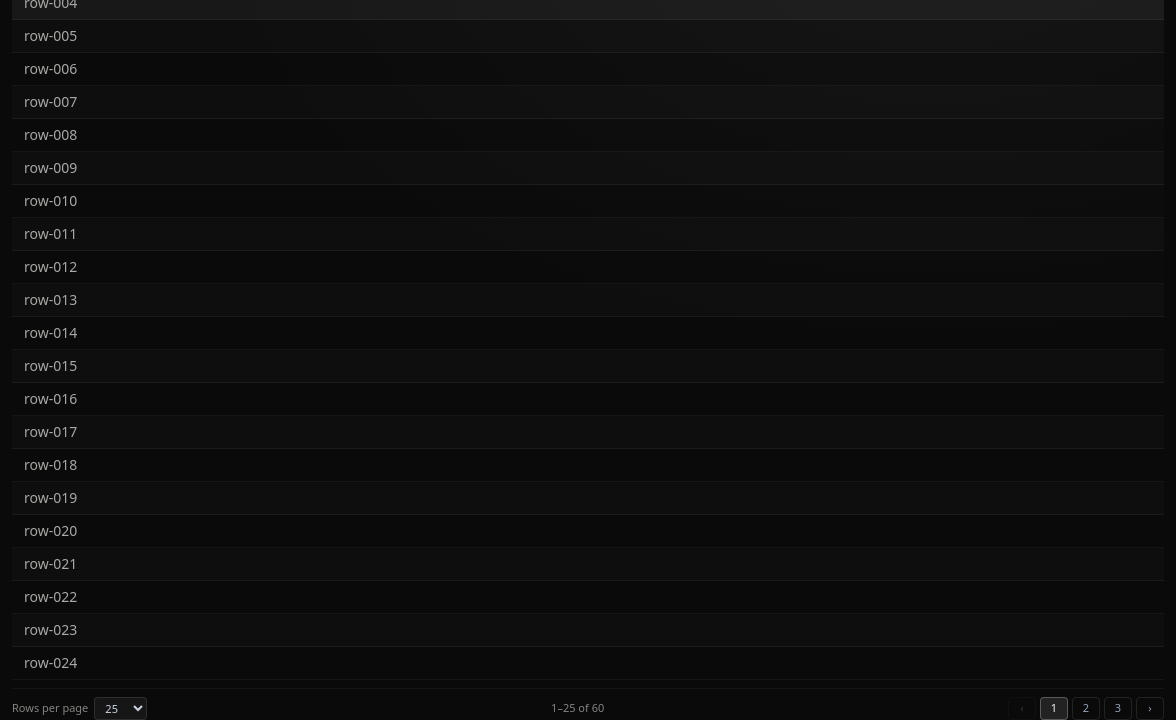
Scenario: DataTable — pagination › ⭐ FILTERING FROM A DEEP PAGE RETURNS TO PAGE ONE — the operator's own search must not read as empty
(page scrolled)
Step 1. Click the button named "Next page" → (1150, 709), box [1136, 697, 1164, 719]
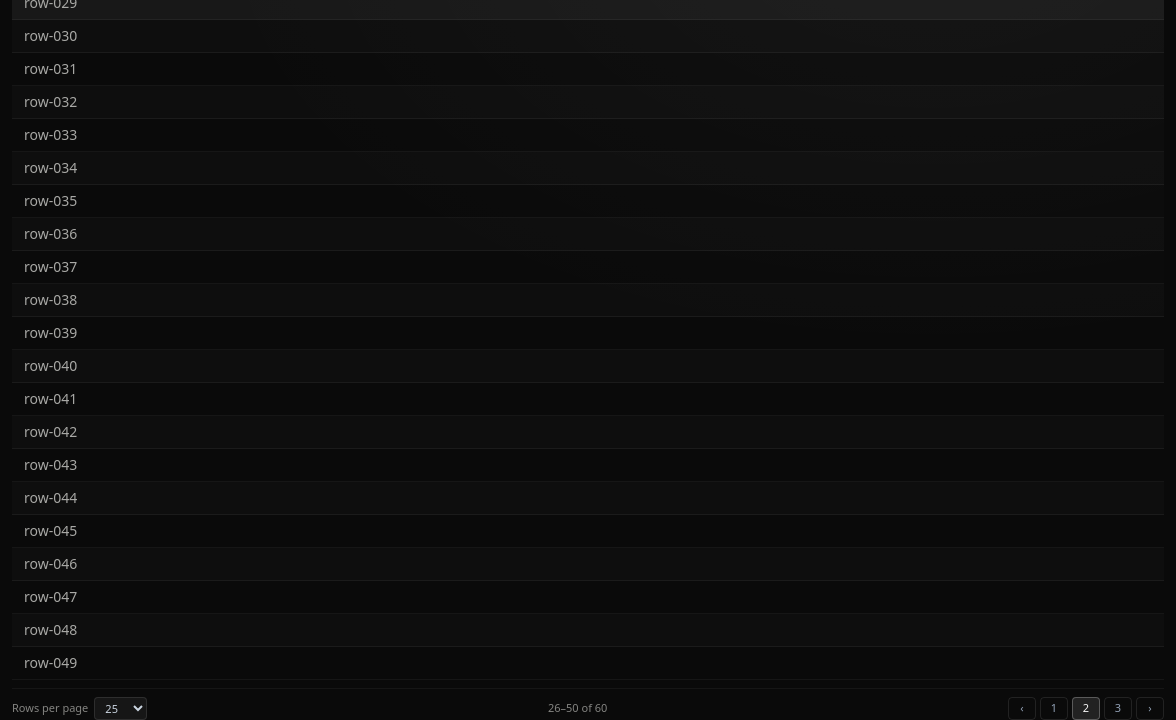
Step 2. Click the button named "Next page" → (1150, 709), box [1136, 697, 1164, 719]
(page scrolled)
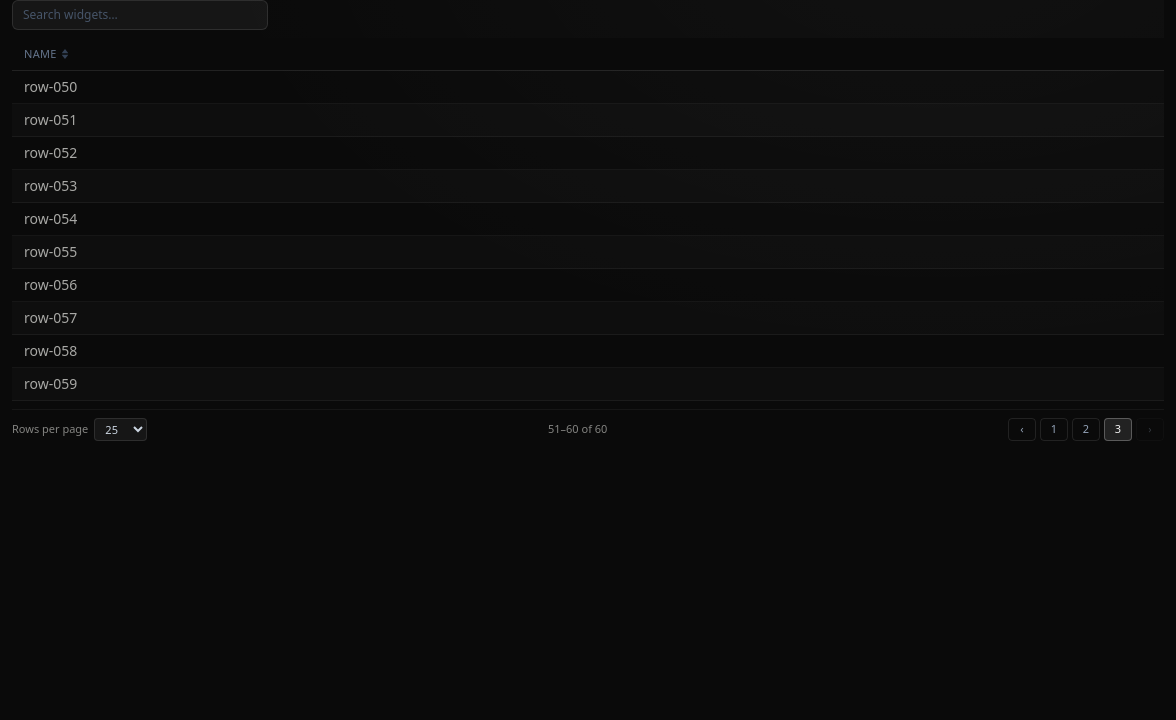
Now the button named "Page 3" is marked as current, box [1104, 418, 1132, 441]
Step 3. Type "ana@ex.com" into the search field named "Filter Widgets" → (140, 15), box [12, 0, 268, 30]
(page scrolled)
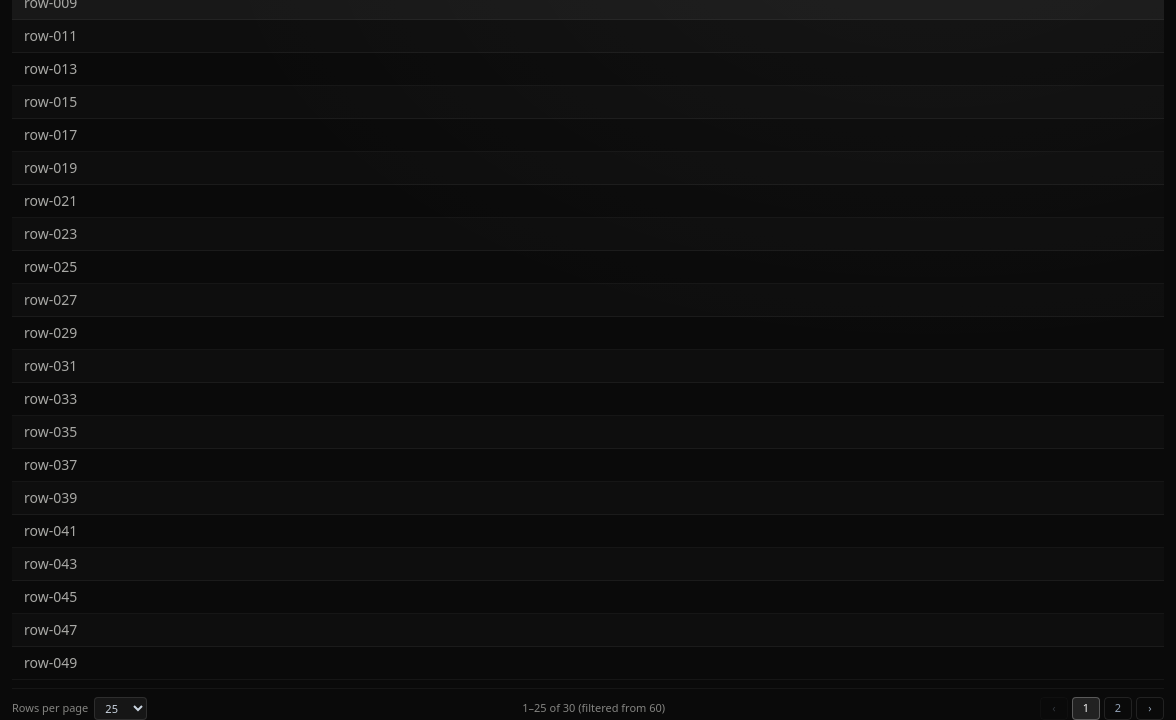
Now the text "1–25 of 30 (filtered from 60)" is shown, box [522, 700, 665, 717]
